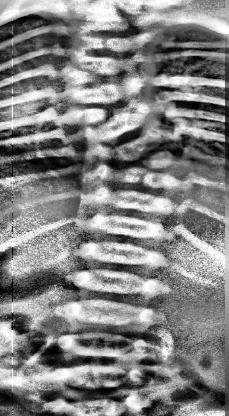Vertebrae: (76, 102, 152, 146), (66, 268, 162, 298), (52, 360, 148, 390), (80, 238, 169, 270), (58, 329, 154, 358), (66, 297, 152, 329), (84, 129, 160, 165), (86, 211, 172, 241), (96, 162, 182, 190), (94, 184, 182, 208), (51, 396, 155, 416), (72, 30, 157, 52), (71, 54, 143, 78), (67, 86, 149, 106), (66, 107, 114, 126)
